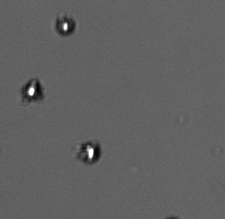Living Cell: (20, 77, 44, 104), (76, 139, 101, 164), (53, 13, 77, 36)
